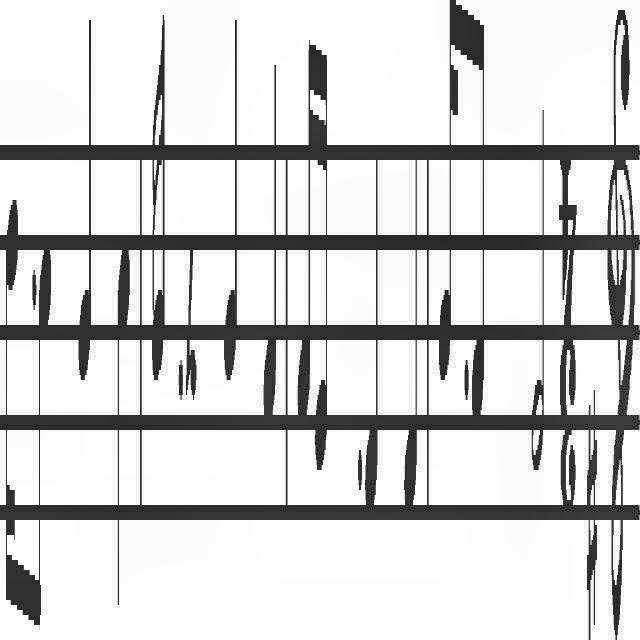Bass-clef: (606, 0, 640, 640)
Diez: (584, 384, 600, 640)
Eighth-note: (470, 3, 488, 437), (37, 220, 55, 640)
Eighth-rest: (185, 230, 199, 426)
Half-note: (524, 111, 554, 511)
Quarter-note: (402, 106, 422, 532), (110, 216, 132, 600), (221, 0, 241, 404), (263, 29, 281, 463), (76, 0, 94, 410), (364, 108, 380, 540)
Sixteenth-note: (1, 190, 23, 634), (313, 38, 332, 488), (294, 20, 314, 426), (148, 0, 168, 404), (436, 1, 456, 396)
